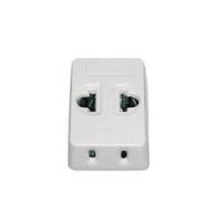three_eye_plug: (64, 49, 152, 173)
